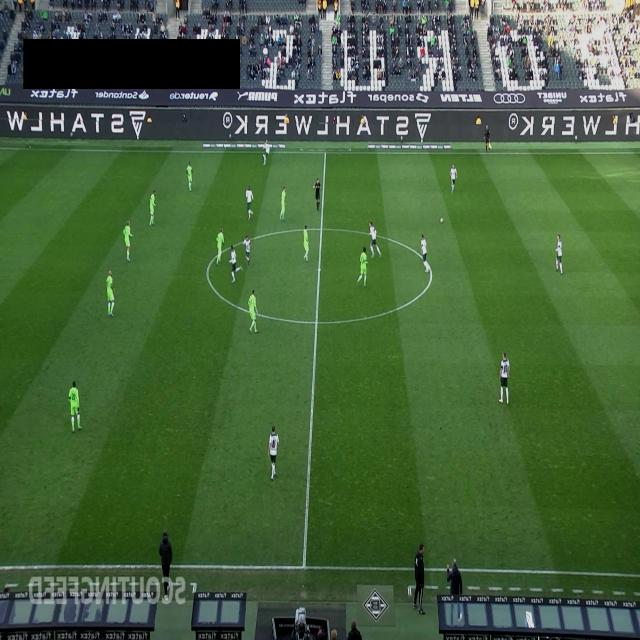ball: (439, 216, 444, 224)
player: (68, 380, 82, 432), (268, 424, 280, 480), (498, 351, 510, 405), (368, 220, 381, 260), (248, 288, 259, 334), (356, 246, 368, 287), (106, 269, 115, 317), (123, 220, 133, 262), (420, 234, 429, 272), (555, 233, 563, 274), (245, 184, 254, 220), (228, 244, 236, 284), (242, 234, 252, 266), (148, 190, 156, 227), (217, 227, 224, 265), (279, 185, 286, 221), (450, 163, 458, 194), (304, 224, 310, 262), (262, 138, 270, 166), (186, 160, 193, 192)
referee: (312, 177, 320, 211), (484, 124, 492, 152)
